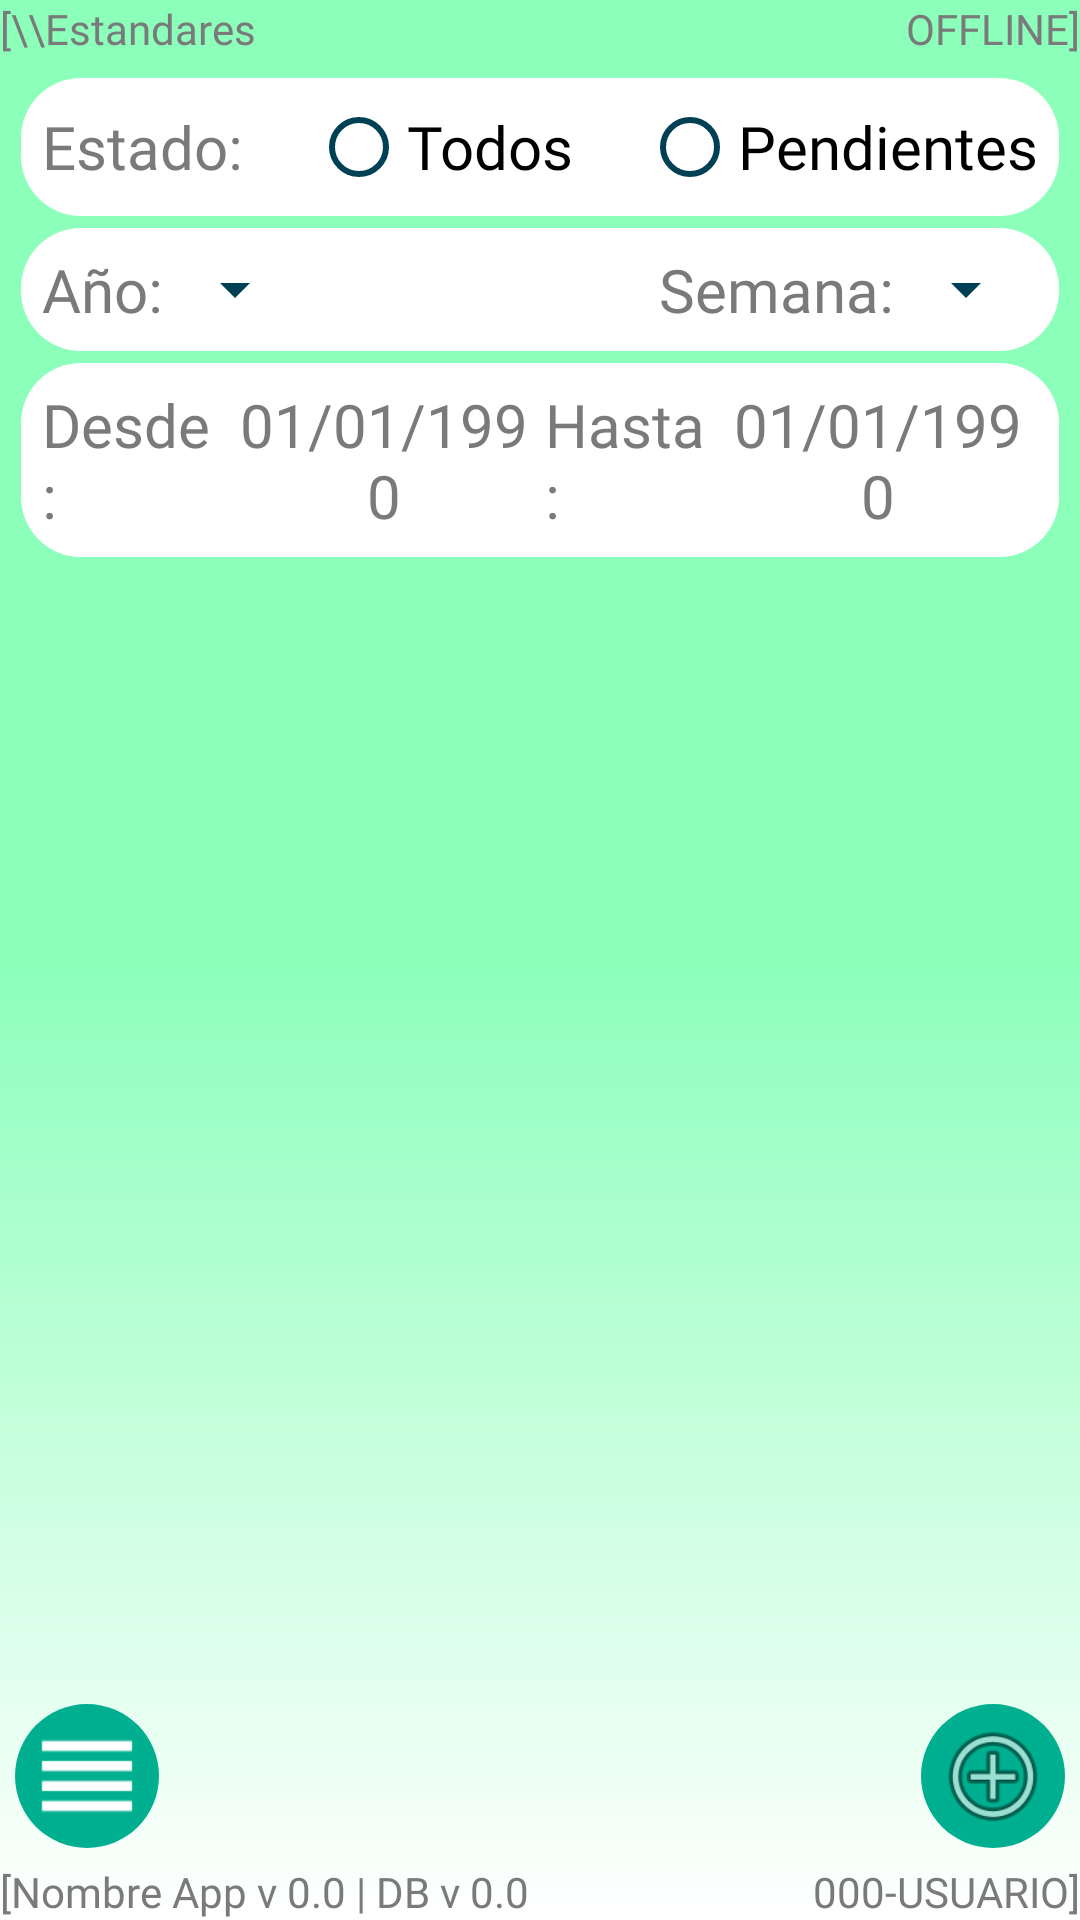

Screen size 1080 x 1920. Icon name, then its center in pixels as (x,y):
add: (993,1776)
menu: (87,1776)
